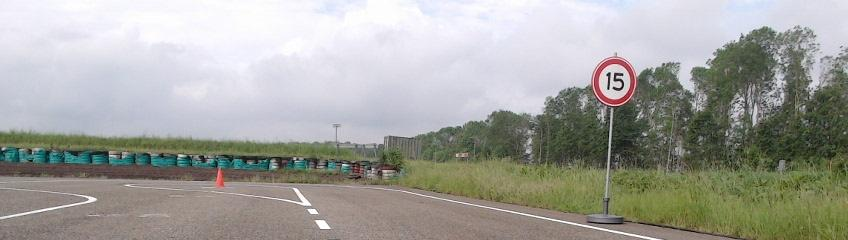Speed-limit-15km-h-: (592, 57, 636, 107)
